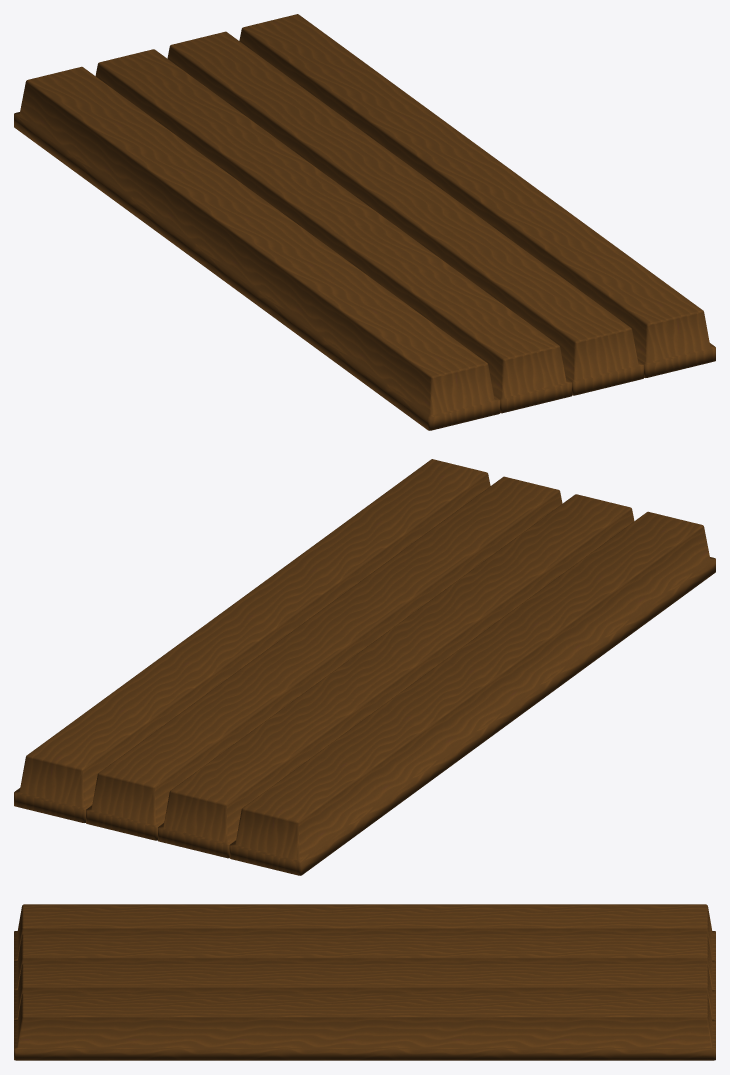
Rendered from bridge.gltf.
3 views of the same model, one above another, from view 1: azimuth 30°, elevation 25°; view 2: azimuth 150°, elevation 25°; view 3: azimuth 270°, elevation 25° (orthographic). The views are drawn at different scales.
Visible parts, largest first — view 1: Bridge; view 2: Bridge; view 3: Bridge.
Part boxes in pixels (<box>): Bridge: <box>14,14,715,430</box>; Bridge: <box>14,459,715,875</box>; Bridge: <box>14,904,715,1060</box>.
Size of what is drawn, in the model's own units: 3.35 by 0.5431 by 8.39.
1 material, 1 textured.
